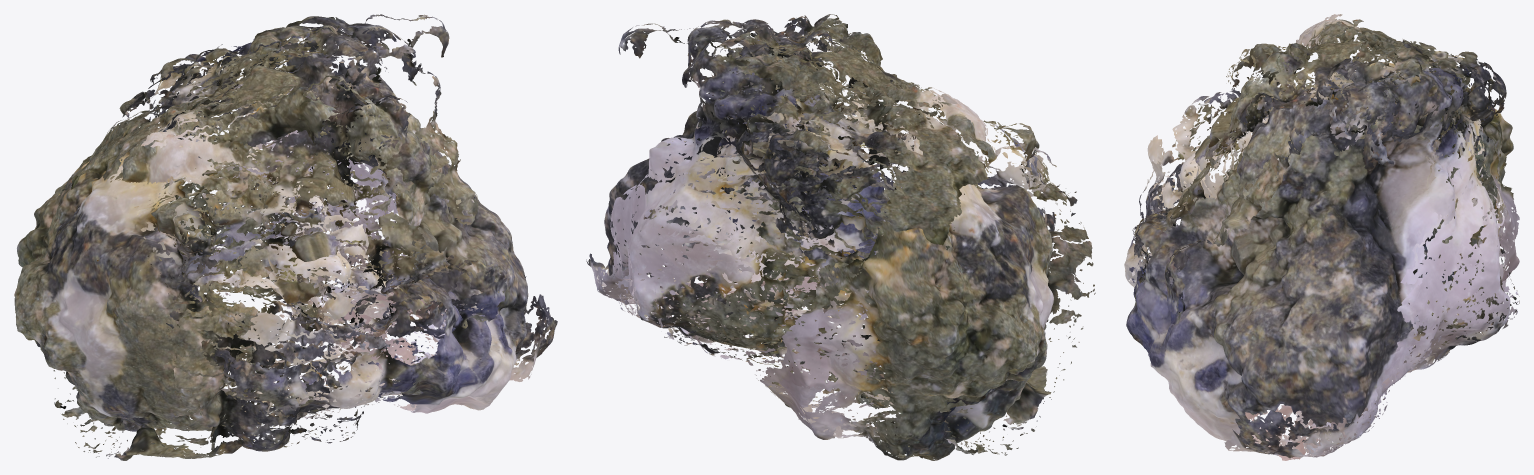
File: pyrite.glb
The picture shows the model from 3 angles, left to right: view 1: azimuth 30°, elevation 25°; view 2: azimuth 150°, elevation 25°; view 3: azimuth 270°, elevation 25°; orthographic projection. The views are drawn at different scales.
Visible parts, largest first — view 1: Object_2, Object_3, Object_4, Object_5; view 2: Object_3, Object_2, Object_4, Object_5; view 3: Object_4, Object_3, Object_2, Object_5.
Boxes of the visible parts, x1,y1,x2,y2 form: Object_2: [14, 14, 507, 431]; Object_3: [53, 16, 557, 460]; Object_4: [60, 26, 528, 428]; Object_5: [173, 71, 399, 447]; Object_3: [586, 14, 1095, 455]; Object_2: [618, 23, 1053, 460]; Object_4: [604, 32, 1056, 427]; Object_5: [711, 82, 908, 429]; Object_4: [1126, 14, 1519, 448]; Object_3: [1124, 19, 1510, 458]; Object_2: [1164, 60, 1519, 460]; Object_5: [1146, 72, 1491, 345].
Size of the model in its own units: 58407 by 42742 by 42441.
1 material, 1 textured.
